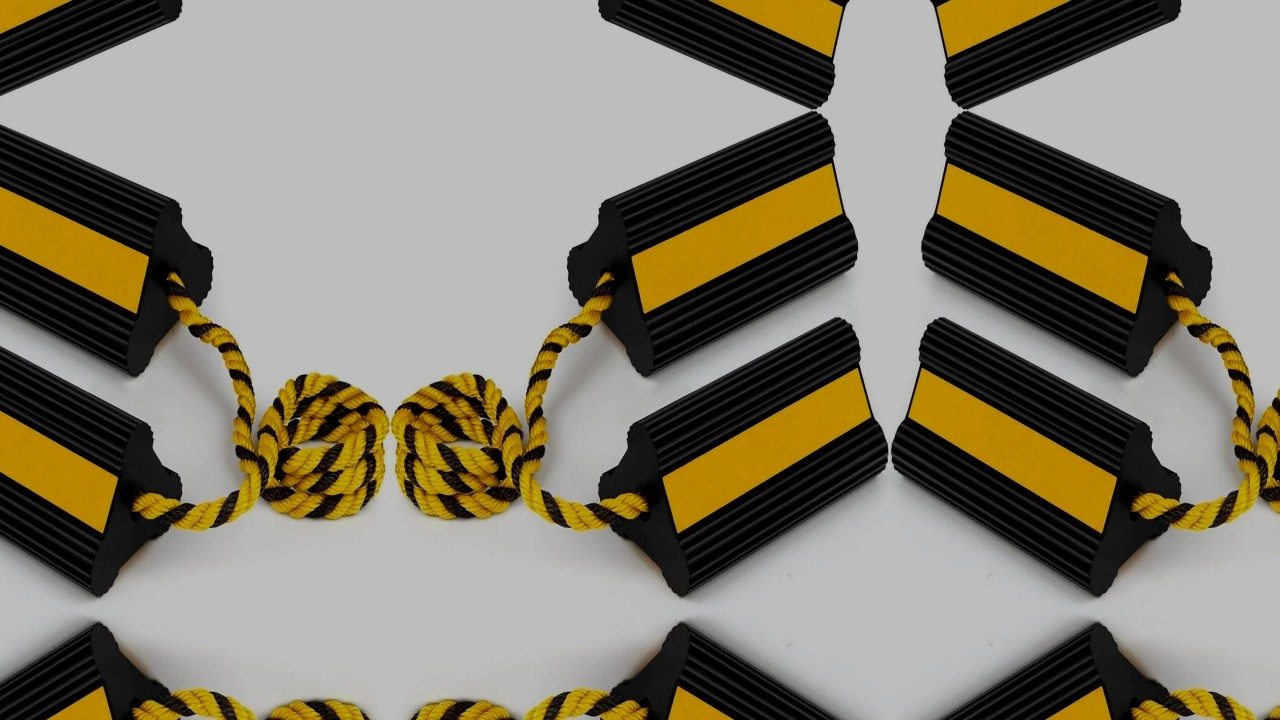chock: (597, 314, 890, 599), (890, 314, 1183, 599), (564, 112, 859, 376), (921, 112, 1216, 376), (0, 112, 216, 376), (0, 314, 183, 599), (564, 0, 859, 108), (921, 0, 1216, 108), (597, 621, 890, 720), (890, 621, 1183, 720), (0, 0, 216, 108), (0, 621, 183, 720)
